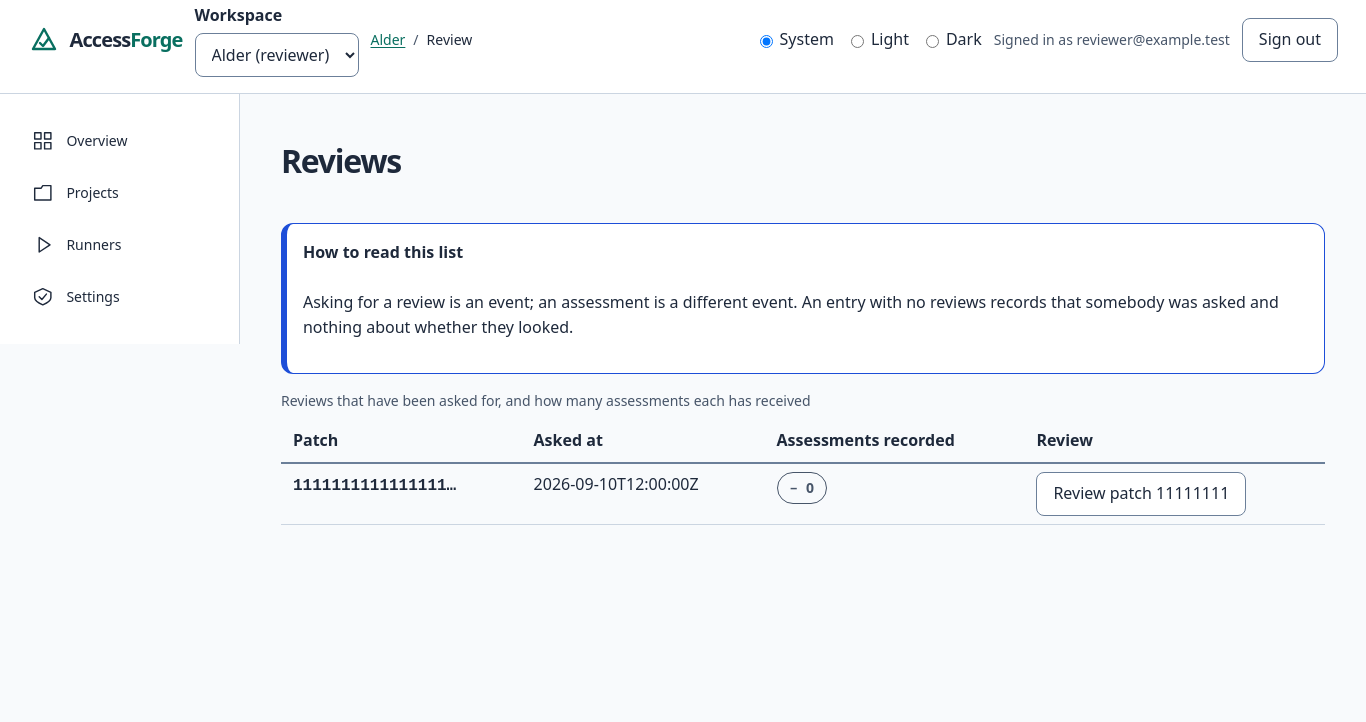
Test: the review form › requires unable-to-assess to say what was missing
The image size is (1366, 722).
Check: the heading "Reviews" is shown, box [281,139,401,182]
Click the button "Review patch 11111111": point(1141, 494) [1036,472,1246,516]
(page scrolled)
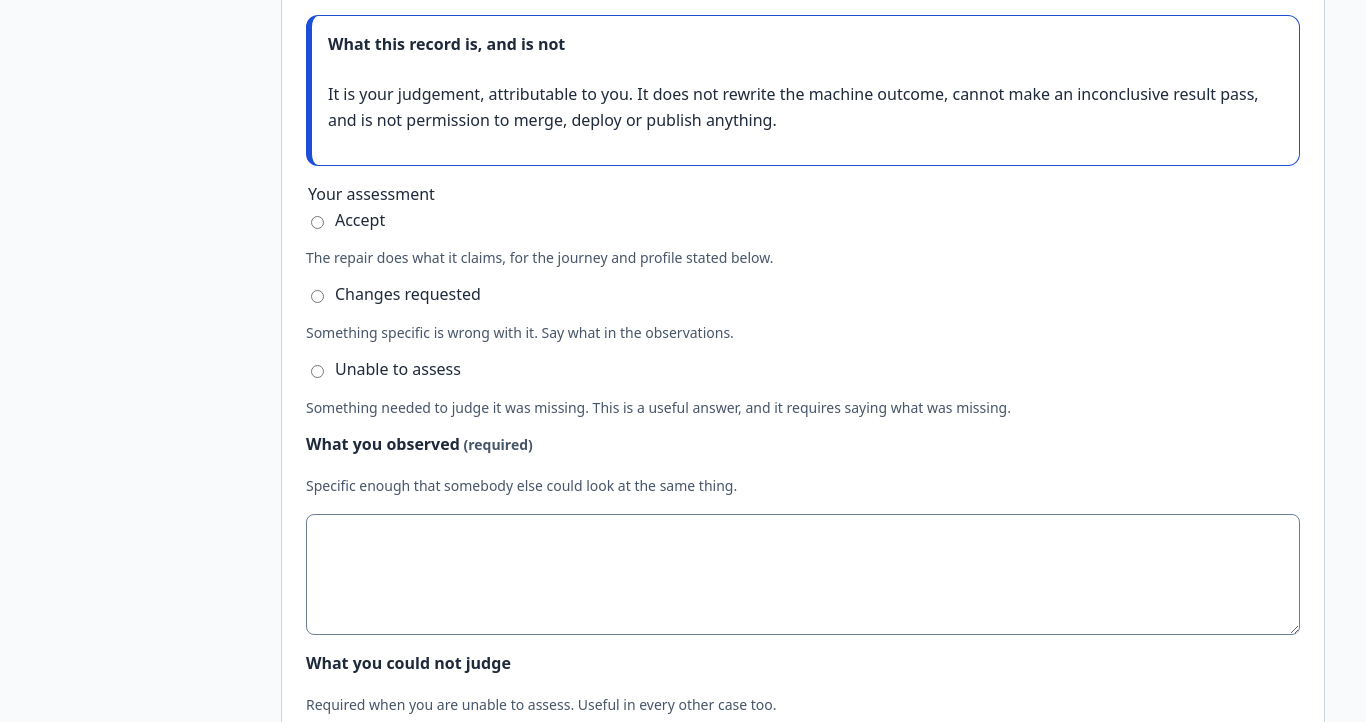
Click the radio button labelled "Unable to assess": point(318, 371) [311,365,324,378]
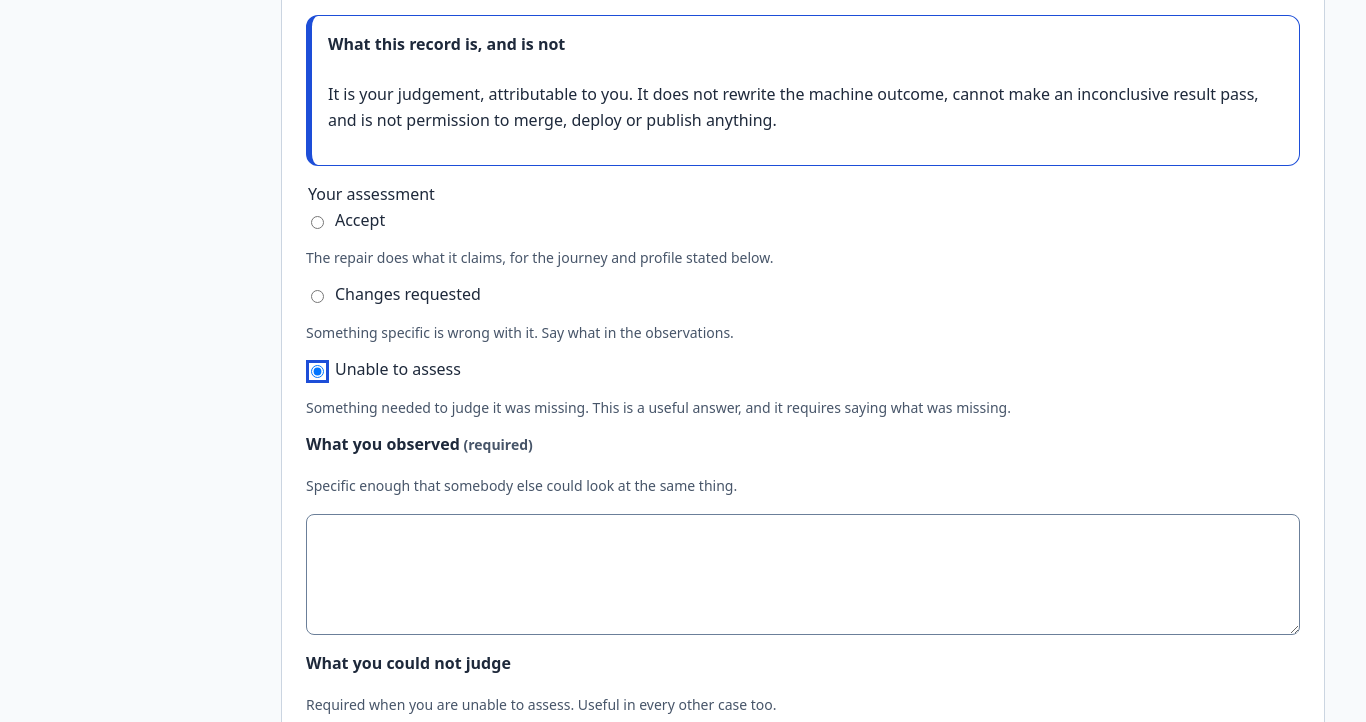
In the text box labelled "What you observed (required)": point(803, 574) [306,514,1300,635], type "I could not open the transcript"
(page scrolled)
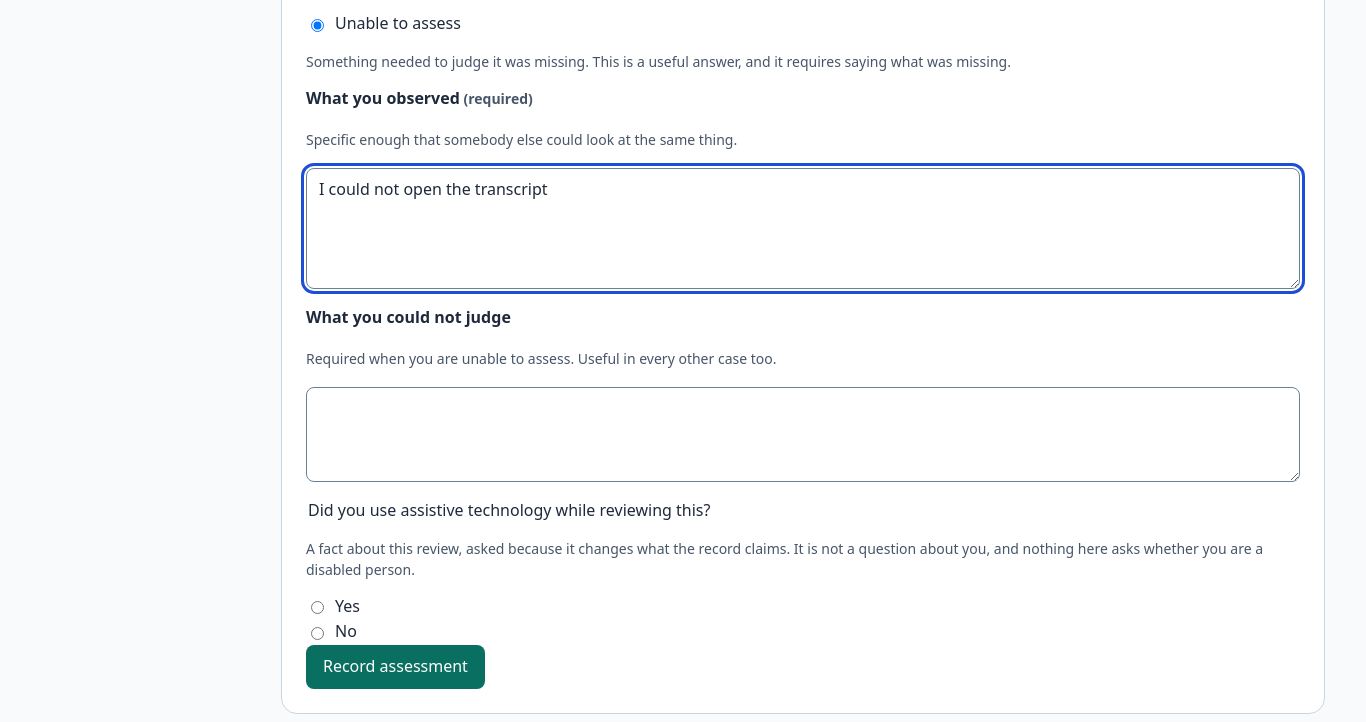
Click the radio button labelled "No": point(318, 633) [311,627,324,640]
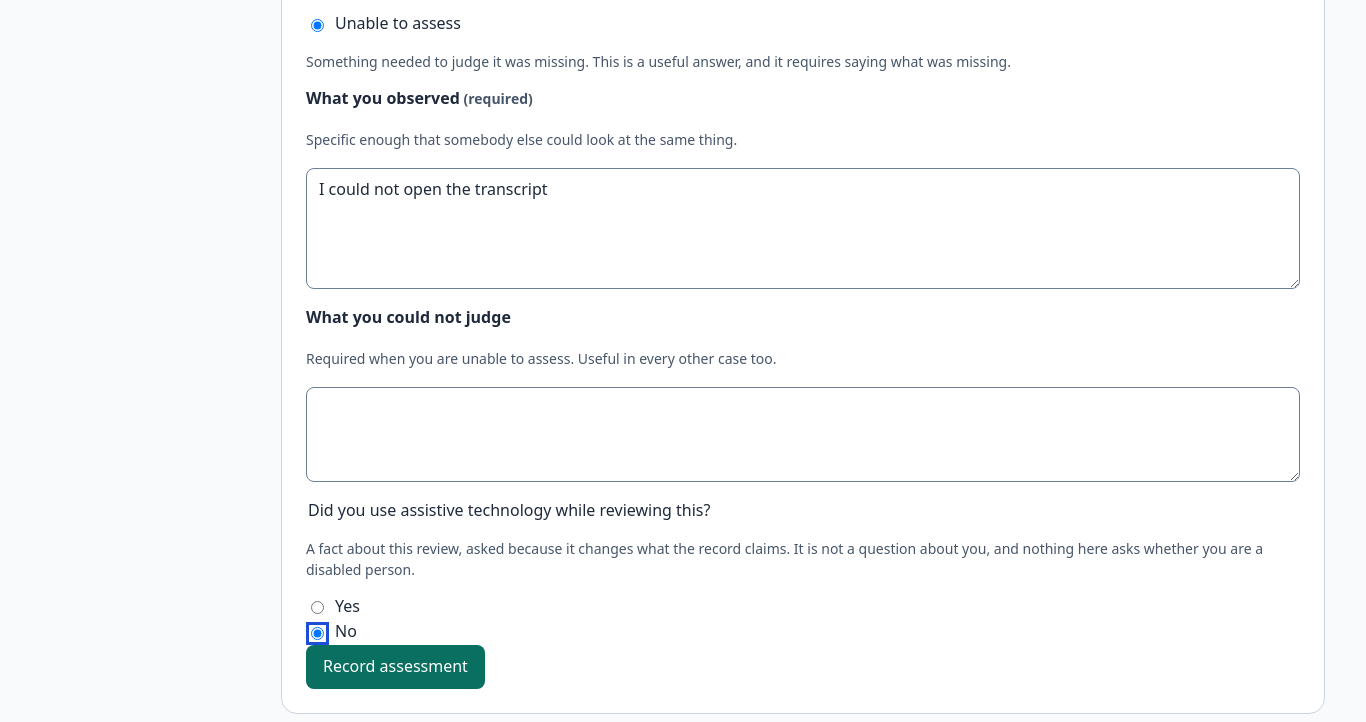
Click the button "Record assessment": point(395, 667) [306,645,485,689]
(page scrolled)
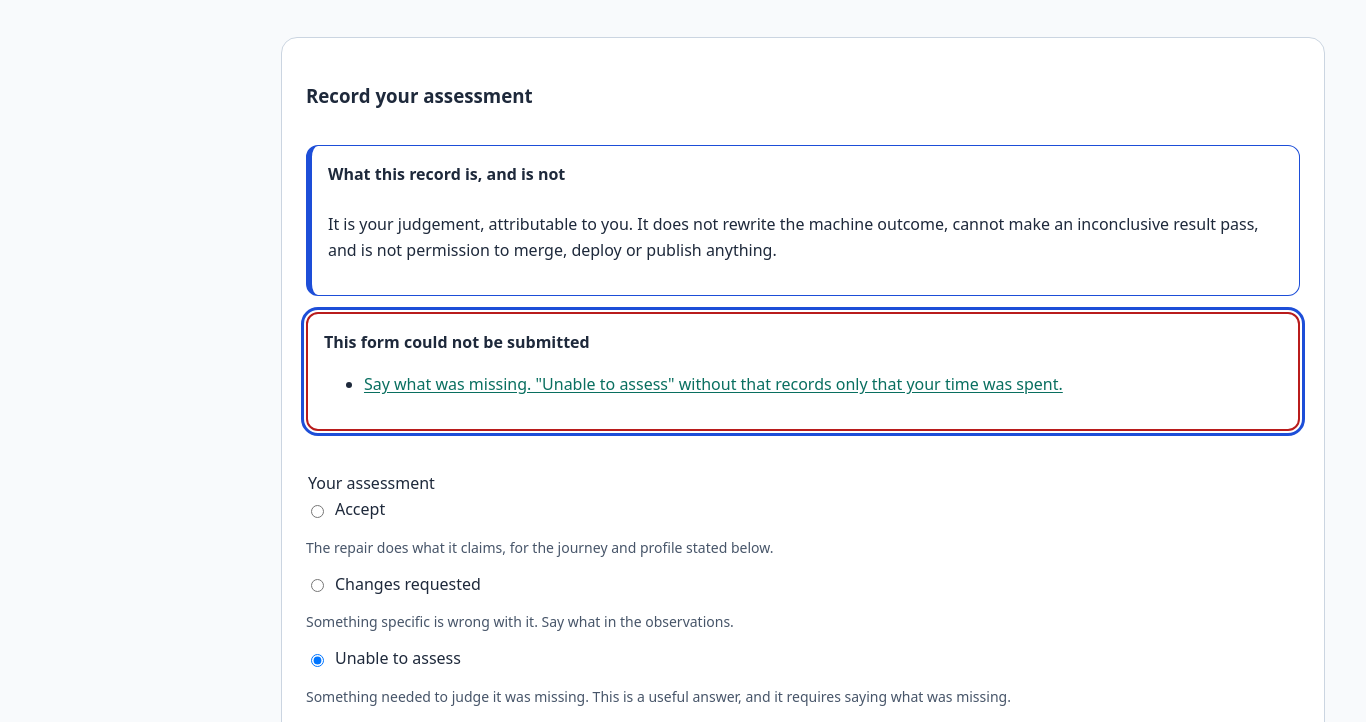
Check: the message shows "Say what was missing", box [364,373,1063,395]
